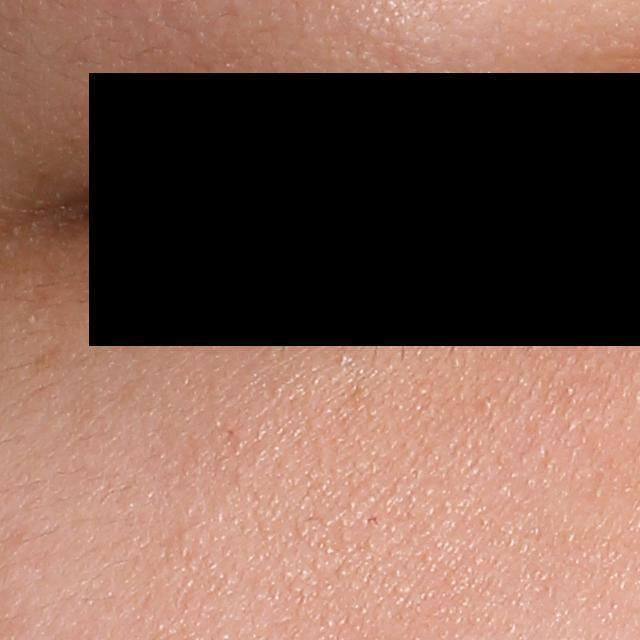melasma: (32, 342, 67, 373)
